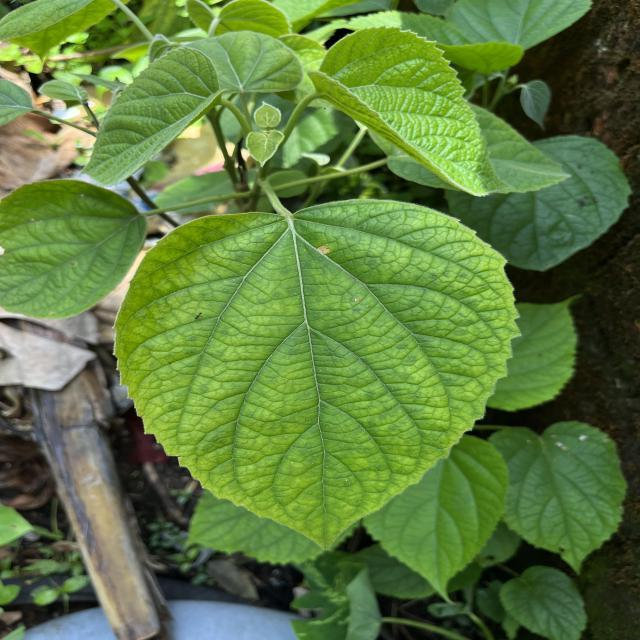Clerodendrum infortunatum: (100, 197, 524, 556), (306, 23, 516, 200), (361, 432, 512, 608), (487, 418, 630, 579), (78, 44, 226, 188), (0, 178, 139, 319), (483, 291, 585, 413)
